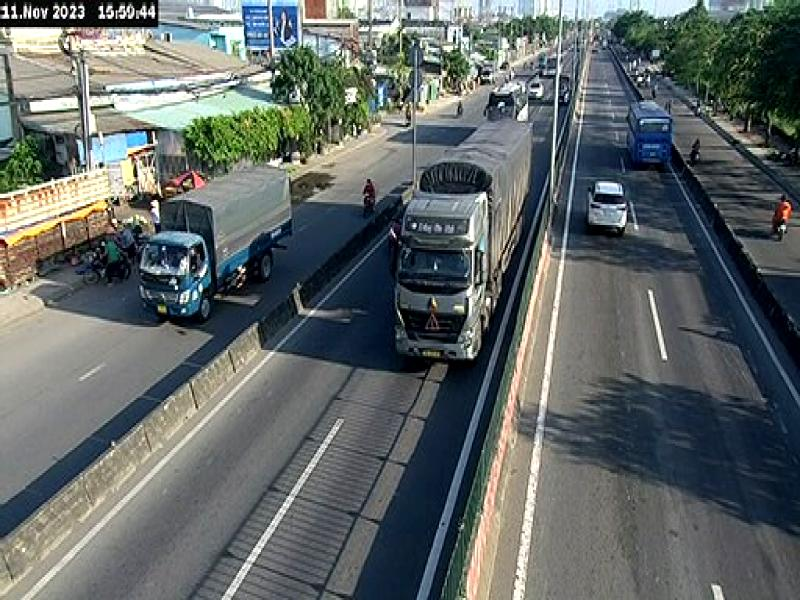bus: (624, 100, 675, 176)
truck: (393, 121, 533, 363), (137, 162, 293, 320)
